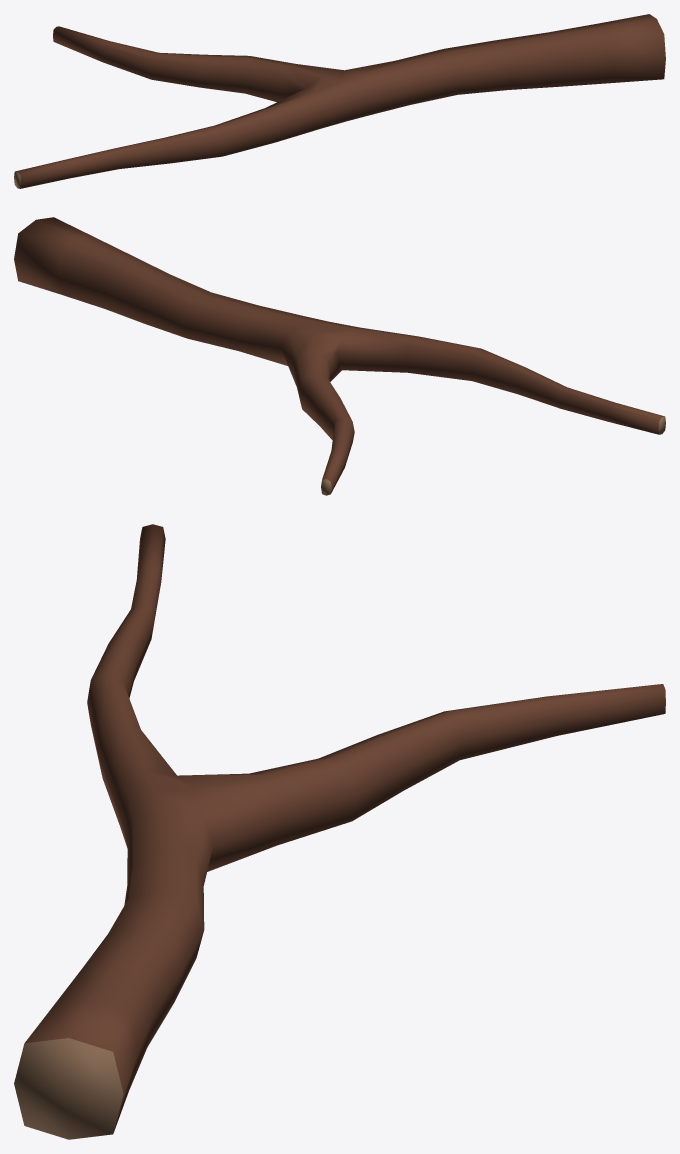
File: PROP_Stick.fbx
The picture shows the model from 3 angles, top to bottom: view 1: azimuth 30°, elevation 25°; view 2: azimuth 150°, elevation 25°; view 3: azimuth 270°, elevation 25°; orthographic projection. The views are drawn at different scales.
Parts seen in each view (by area): view 1: Stick; view 2: Stick; view 3: Stick.
Boxes of the visible parts, bbox=[...] form: Stick: bbox=[14, 14, 665, 188]; Stick: bbox=[14, 217, 665, 495]; Stick: bbox=[14, 524, 665, 1139].
Bounding box in the file's own units: 0.7068 × 0.0605 × 0.3509.
